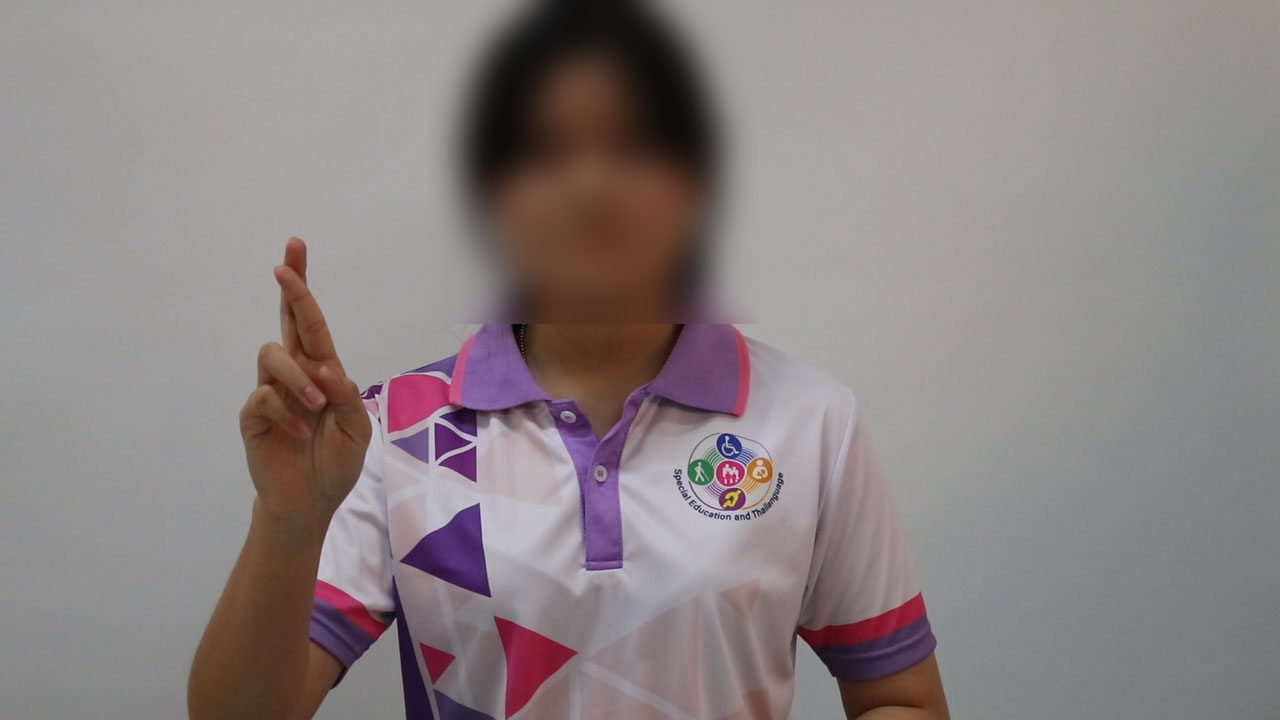rao: (212, 232, 383, 517)
